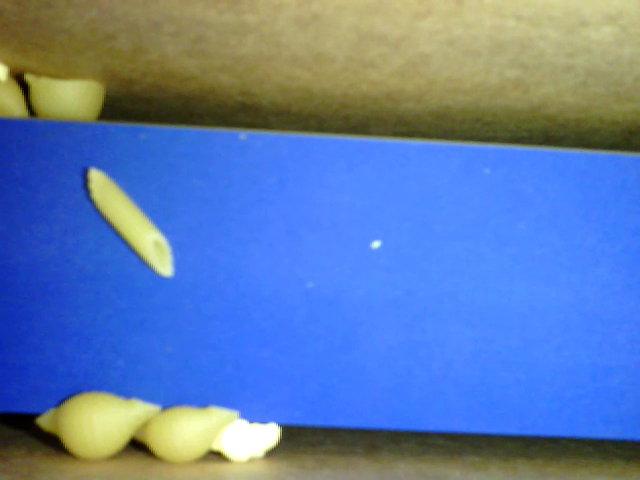penne: (87, 166, 175, 278)
shell: (33, 394, 162, 462), (132, 403, 240, 464), (24, 74, 108, 127)
